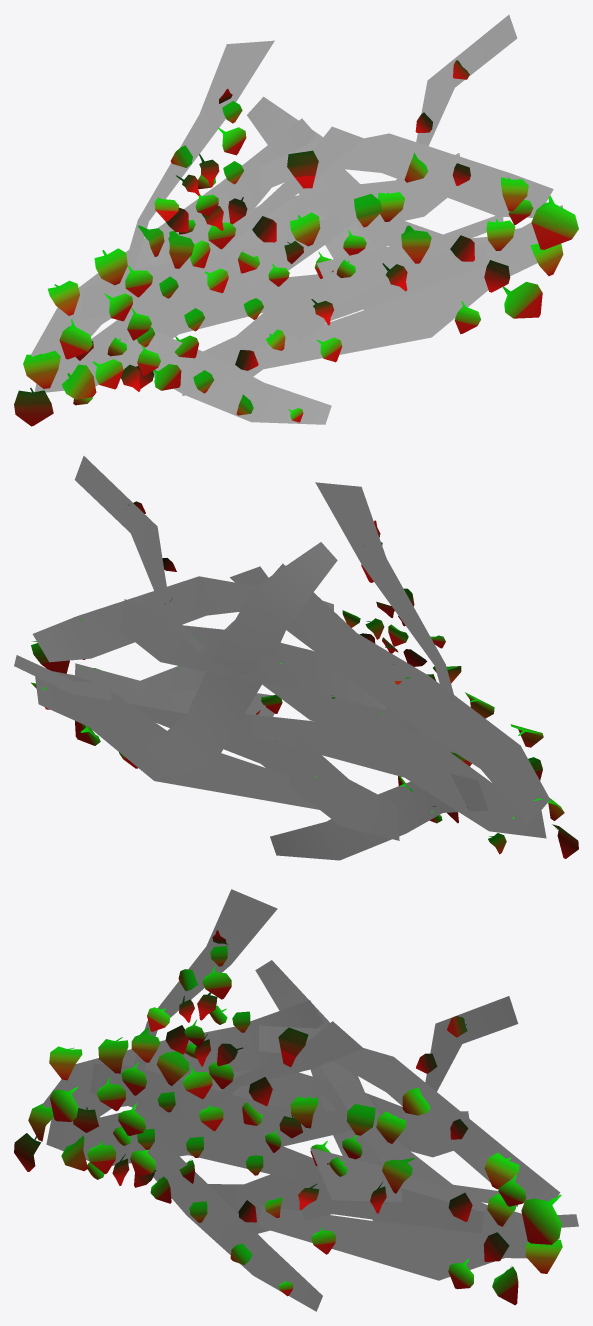
The model's file is lierre_var_5.fbx.
3 renders of one model, top to bottom at view 1: azimuth 30°, elevation 25°; view 2: azimuth 150°, elevation 25°; view 3: azimuth 330°, elevation 25°, orthographic.
Parts seen in each view (by area): view 1: _9860_Var5_LOD1; view 2: _9860_Var5_LOD1; view 3: _9860_Var5_LOD1.
Part boxes in pixels (bbox=[...]): _9860_Var5_LOD1: bbox=[14, 14, 578, 426]; _9860_Var5_LOD1: bbox=[14, 456, 578, 860]; _9860_Var5_LOD1: bbox=[14, 889, 578, 1311].
Bounding box in the file's own units: 82.97 × 56.45 × 6.07.
